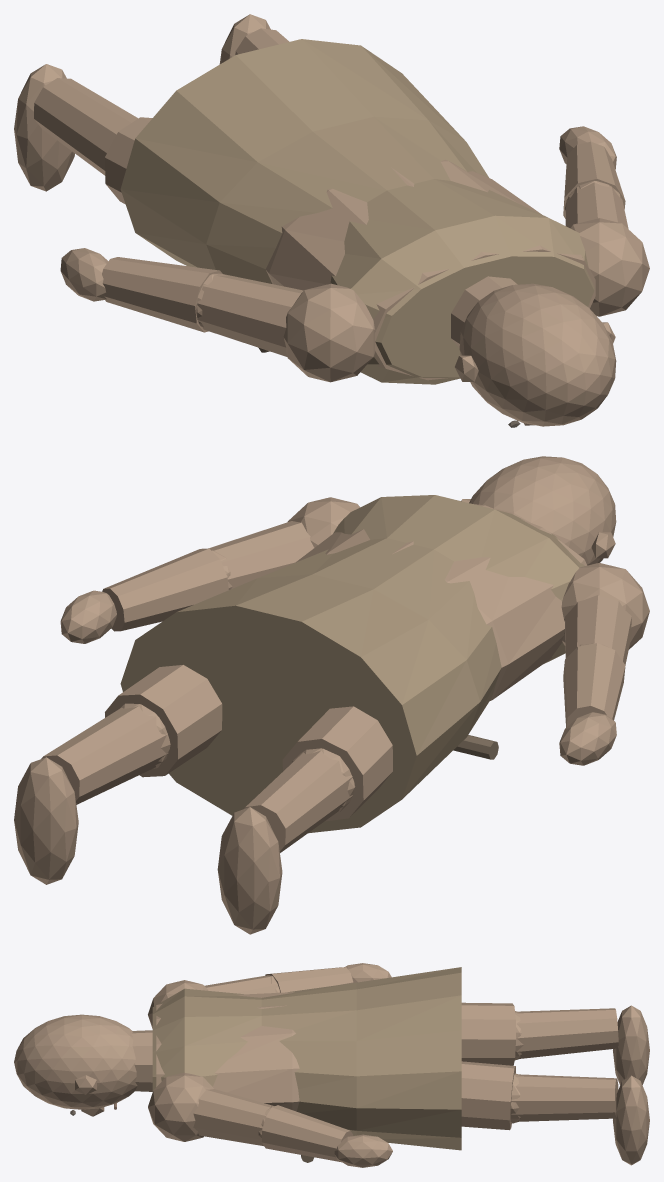
The model's file is man_sturdy__plain_base.glb.
The picture shows the model from 3 angles, top to bottom: view 1: azimuth 30°, elevation 25°; view 2: azimuth 150°, elevation 25°; view 3: azimuth 270°, elevation 25°; orthographic projection. The views are drawn at different scales.
Parts seen in each view (by area): view 1: part_027, part_010, part_008, part_017, part_018, part_020, part_002, part_022, part_003, part_025, part_023, part_021 (+5 smaller); view 2: part_027, part_008, part_010, part_006, part_003, part_007, part_004, part_025, part_002, part_000, part_020, part_023 (+6 smaller); view 3: part_027, part_010, part_008, part_006, part_002, part_004, part_000, part_025, part_023, part_022, part_007, part_003 (+8 smaller).
Boxes of the visible parts, x1,y1,x2,y2 form: part_027: (120, 39, 594, 384); part_010: (459, 283, 616, 426); part_008: (265, 159, 595, 380); part_017: (283, 283, 375, 382); part_018: (197, 273, 303, 356); part_020: (102, 257, 222, 332); part_002: (34, 78, 137, 175); part_022: (570, 218, 649, 316); part_003: (14, 64, 74, 191); part_025: (563, 141, 625, 218); part_023: (565, 182, 628, 228); part_021: (60, 248, 108, 301); part_027: (120, 495, 584, 833); part_008: (295, 504, 587, 700); part_010: (469, 456, 616, 565); part_006: (41, 706, 168, 804); part_003: (217, 807, 282, 934); part_007: (14, 757, 78, 884); part_004: (105, 665, 222, 777); part_025: (102, 548, 228, 631); part_002: (244, 750, 352, 852); part_000: (282, 706, 392, 821); part_020: (563, 643, 625, 727); part_023: (208, 521, 314, 588); part_027: (152, 967, 461, 1150); part_010: (14, 1014, 137, 1109); part_008: (156, 992, 299, 1111); part_006: (511, 1074, 618, 1121); part_002: (515, 1008, 618, 1059); part_004: (461, 1061, 515, 1130); part_000: (461, 1002, 515, 1065); part_025: (262, 1105, 353, 1162); part_023: (193, 1089, 274, 1145); part_022: (148, 1072, 213, 1141); part_007: (613, 1075, 649, 1165); part_003: (613, 1005, 649, 1084).
Bounding box in the file's own units: 1.71 × 0.6435 × 2.48.
